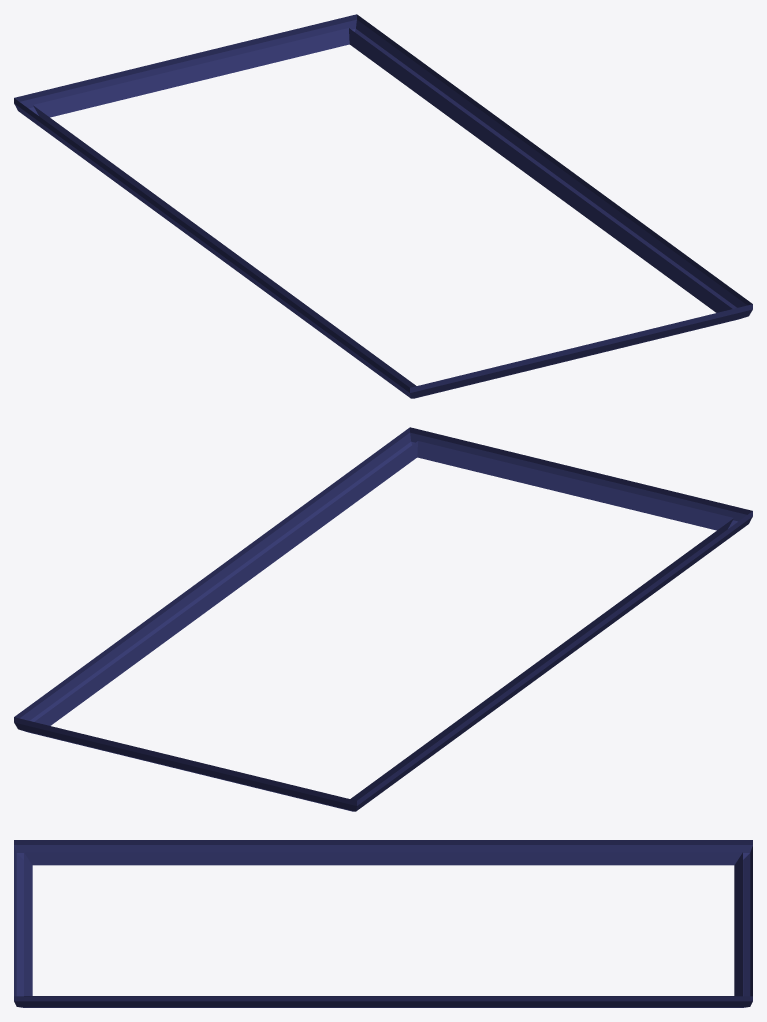
The model's file is light_frame.glb.
3 renders of one model, top to bottom at view 1: azimuth 30°, elevation 25°; view 2: azimuth 150°, elevation 25°; view 3: azimuth 270°, elevation 25°, orthographic. The views are drawn at different scales.
Visible parts, largest first — view 1: LightFrame; view 2: LightFrame; view 3: LightFrame.
Boxes of the visible parts, left/top/right/bottom form: LightFrame: left=14, top=14, right=752, bottom=398; LightFrame: left=14, top=427, right=752, bottom=811; LightFrame: left=14, top=840, right=752, bottom=1007.
Bounding box in the file's own units: 1 × 0.0523 × 2.
Materials: 1 (1 with a texture image).
